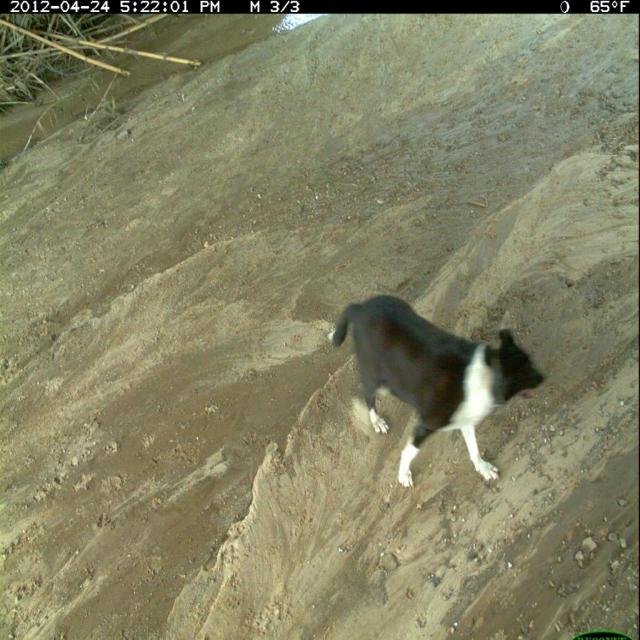dog: (323, 288, 549, 495)
